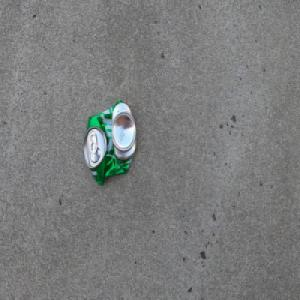SodaCan: (83, 99, 137, 186)
